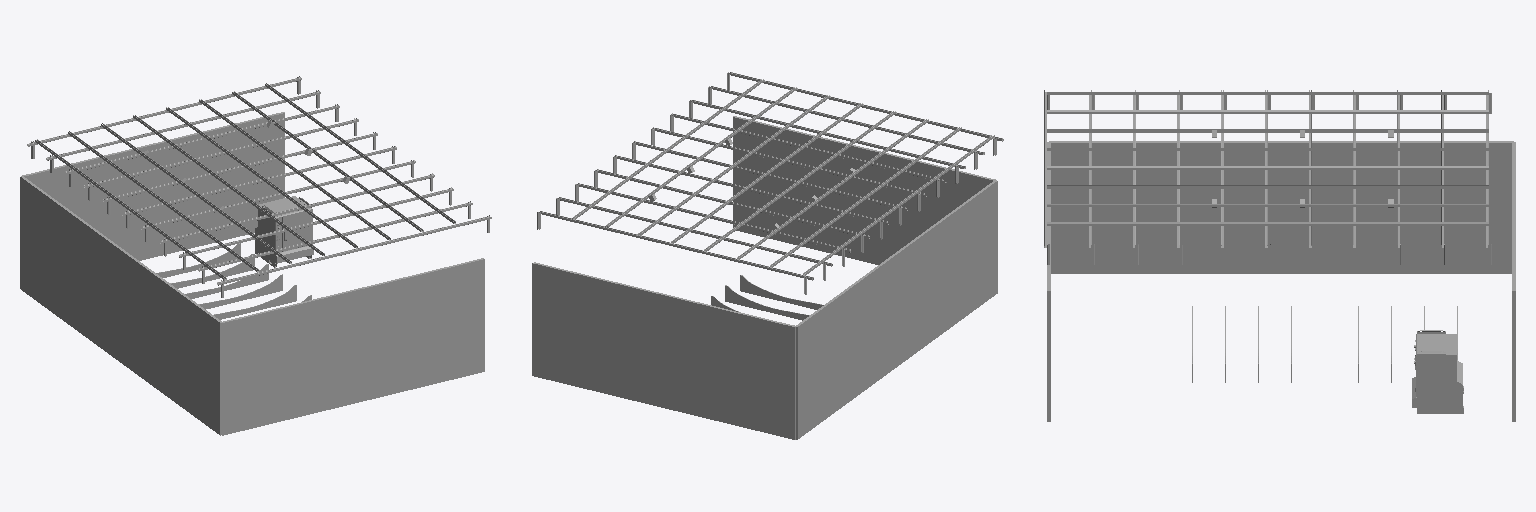
robot.urdf — wall:
<?xml version="1.0" ?>
<robot name="wall">
  <link name="world"/>
  <link name="T1">
    <inertial>
      <mass value="1"/>
      <origin rpy="0 0 0" xyz="0 0 0"/>
      <inertia ixx="1" ixy="0" ixz="0" iyy="1" iyz="0" izz="1"/>
    </inertial>
    <collision>
      <origin rpy="0 0 0" xyz="0 0 0"/>
      <geometry>
        <box size="4.8768 0.05 2.0"/>
      </geometry>
    </collision>
    <visual>
      <origin rpy="0 0 0" xyz="0 0 0"/>
      <geometry>
        <box size="4.8768 0.05 2.0"/>
      </geometry>
      <material name="DarkGrey">
        <color rgba="0.7 0.7 0.7 0.5"/>
      </material>
    </visual>
  </link>
  <link name="T2">
    <inertial>
      <mass value="1"/>
      <origin rpy="0 0 0" xyz="0 0 0"/>
      <inertia ixx="1" ixy="0" ixz="0" iyy="1" iyz="0" izz="1"/>
    </inertial>
    <collision>
      <origin rpy="0 0 0" xyz="0 0 0"/>
      <geometry>
        <box size="4.8768 0.05 2.0"/>
      </geometry>
    </collision>
    <visual>
      <origin rpy="0 0 0" xyz="0 0 0"/>
      <geometry>
        <box size="4.8768 0.05 2.0"/>
      </geometry>
      <material name="DarkGrey">
        <color rgba="0.7 0.7 0.7 0.5"/>
      </material>
    </visual>
  </link>
  <link name="T3">
    <inertial>
      <mass value="1"/>
      <origin rpy="0 0 0" xyz="0 0 0"/>
      <inertia ixx="1" ixy="0" ixz="0" iyy="1" iyz="0" izz="1"/>
    </inertial>
    <collision>
      <origin rpy="0 0 0" xyz="0 0 0"/>
      <geometry>
        <box size="0.05 6.4262 2.0"/>
      </geometry>
    </collision>
    <visual>
      <origin rpy="0 0 0" xyz="0 0 0"/>
      <geometry>
        <box size="0.05 6.4262 2.0"/>
      </geometry>
      <material name="DarkGrey">
        <color rgba="0.7 0.7 0.7 0.5"/>
      </material>
    </visual>
  </link>
  <link name="Ceiling">
    <collision name="collision">
      <geometry>
        <mesh filename="package://abb_irb6640_support/meshes/Scene/TestBed_scene5.STL"/>
      </geometry>
    </collision>
    <visual name="visual">
      <geometry>
        <mesh filename="package://abb_irb6640_support/meshes/Scene/TestBed_scene5.STL"/>
      </geometry>
      <material name="DarkGrey"/>
    </visual>
  </link>

  <joint name="T1_joint" type="fixed">
    <parent link="world"/>
    <child link="T1"/>
    <origin rpy="0 0 0" xyz="1.5384 -3.8262 1"/>
  </joint>
  <joint name="T2_joint" type="fixed">
    <parent link="world"/>
    <child link="T2"/>
    <origin rpy="0 0 0" xyz="1.5384 2.6 1"/>
  </joint>
  <joint name="T3_joint" type="fixed">
    <parent link="world"/>
    <child link="T3"/>
    <origin rpy="0 0 0" xyz="-0.9 -0.6131 1"/>
  </joint>
   <joint name="Ceiling_joint" type="fixed">
    <parent link="world"/>
    <child link="Ceiling"/>
    <origin rpy="1.570796 0 3.1415926" xyz="-0.9 -4.377 0"/> 
  </joint>

  <gazebo>
    <static>true</static>
  </gazebo>
</robot>

--- Facts derived from the render (not from the file) ---
Views: 3 orthographic renders of the robot side by side, from view 1: azimuth 30°, elevation 25°; view 2: azimuth 150°, elevation 25°; view 3: azimuth 270°, elevation 25°.
Model wall with 5 links and 4 joints (4 fixed), rooted at world, posed all joints at 0.
Visible links, largest first — view 1: T1, T3, Ceiling, T2; view 2: T2, T3, Ceiling, T1; view 3: T3, Ceiling, T2, T1.
Boxes of the visible links, x1,y1,x2,y2 form: T1: (222, 258, 484, 435); T3: (20, 176, 221, 435); Ceiling: (27, 76, 491, 319); T2: (22, 112, 284, 260); T2: (532, 262, 796, 439); T3: (796, 180, 997, 439); Ceiling: (537, 72, 1003, 325); T1: (733, 116, 995, 264); T3: (1049, 141, 1513, 273); Ceiling: (1044, 90, 1491, 413); T2: (1512, 142, 1515, 421); T1: (1047, 142, 1050, 421).
Size in the robot's own frame: 5.08 by 6.51 by 2.82 metres.
Meshes: 1 distinct files referenced, 1 mesh visuals loaded (1 binary STL).